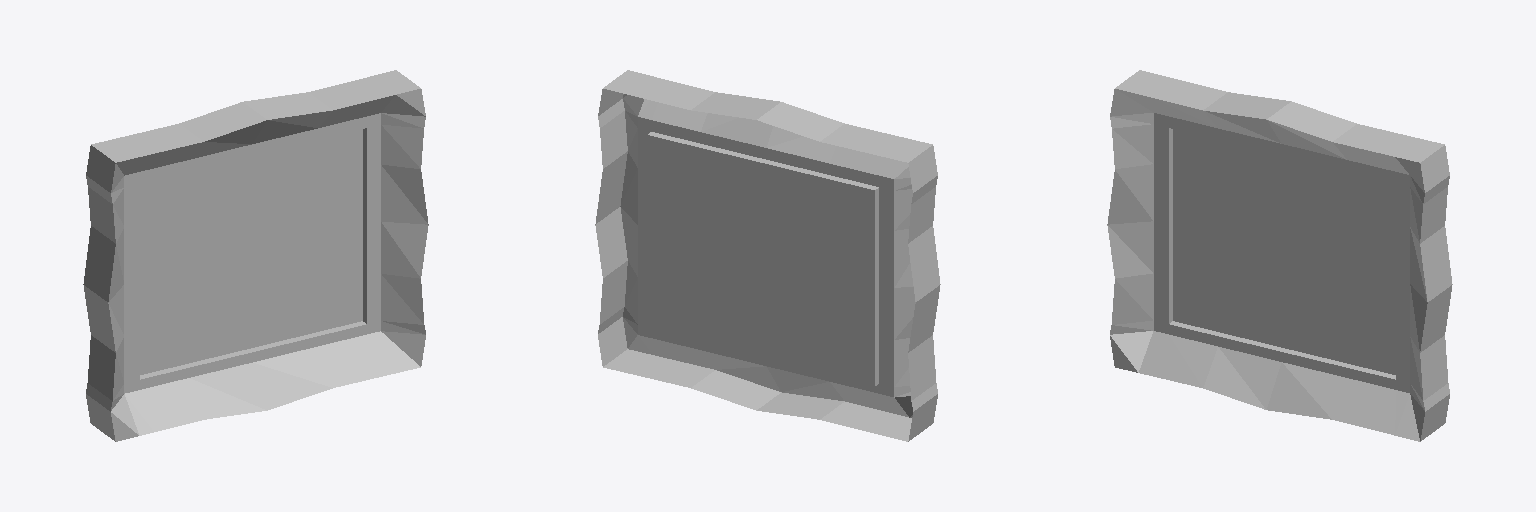
File: goldFrame_ArmyScene.obj
3 renders of one model, left to right at view 1: azimuth 30°, elevation 25°; view 2: azimuth 150°, elevation 25°; view 3: azimuth 330°, elevation 25°, orthographic.
Parts seen in each view (by area): view 1: Cube; view 2: Cube; view 3: Cube.
Boxes of the visible parts, <box> form: Cube: <box>83,70,428,441</box>; Cube: <box>595,70,940,441</box>; Cube: <box>1107,70,1452,441</box>.
Bounding box in the file's own units: 1.19 × 1.03 × 0.1611.